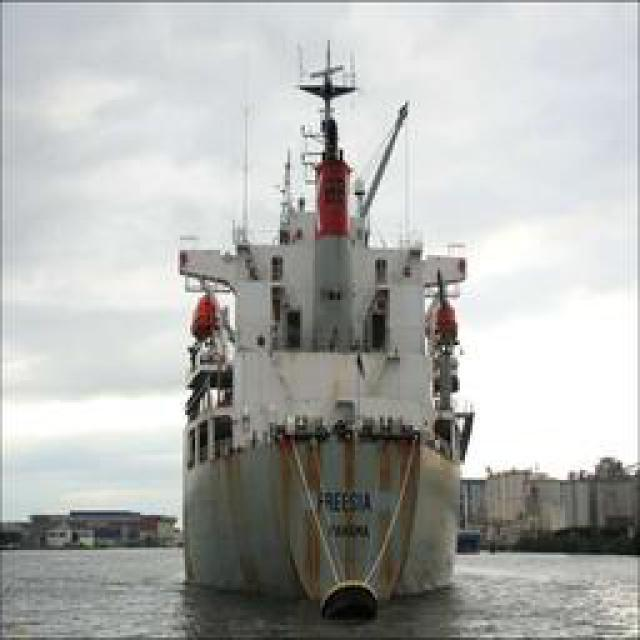Ship: (171, 45, 486, 623)
